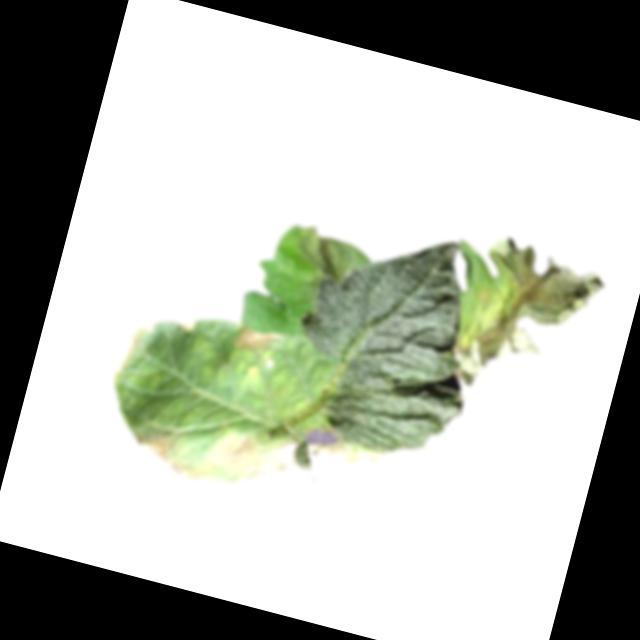Late_blight: (445, 231, 611, 415), (212, 423, 302, 494), (128, 419, 209, 482), (287, 220, 361, 286), (229, 322, 280, 361), (115, 322, 146, 376), (178, 313, 200, 335)
healthy: (276, 210, 502, 467)
